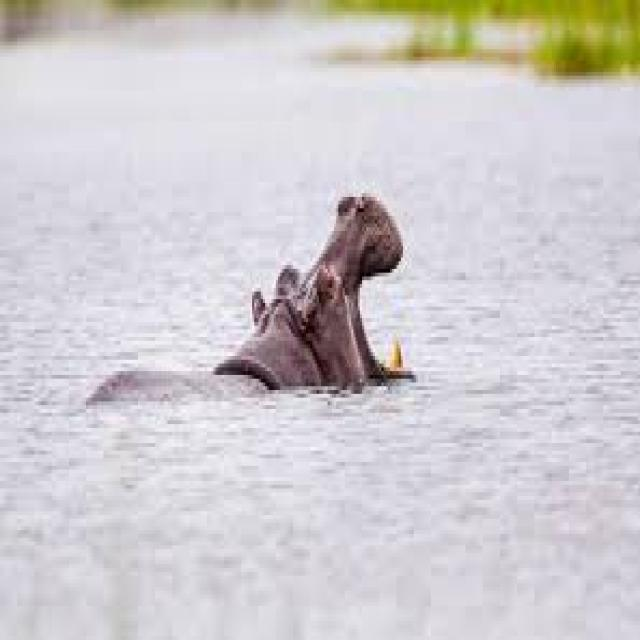Hippopotamus: (77, 182, 416, 426)
